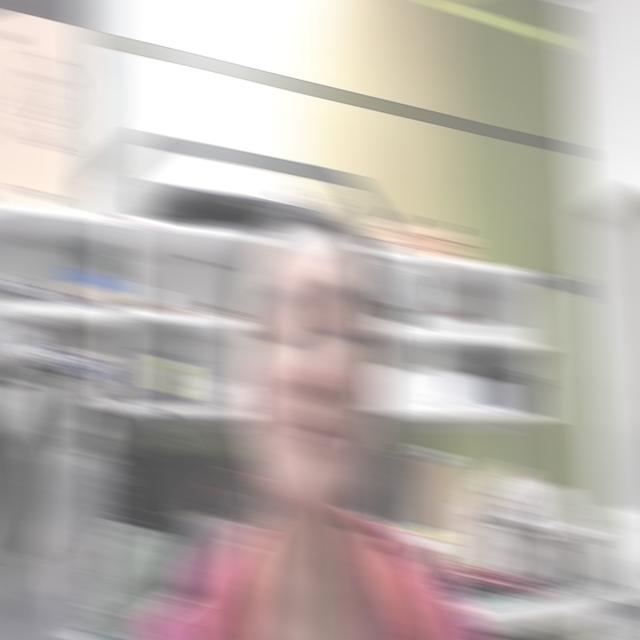Without Helmet: (195, 168, 432, 586)
